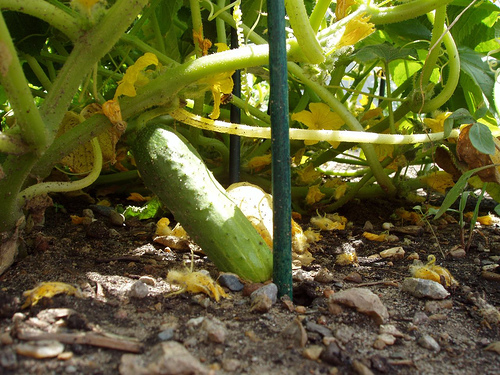cucumber: (129, 116, 275, 286)
